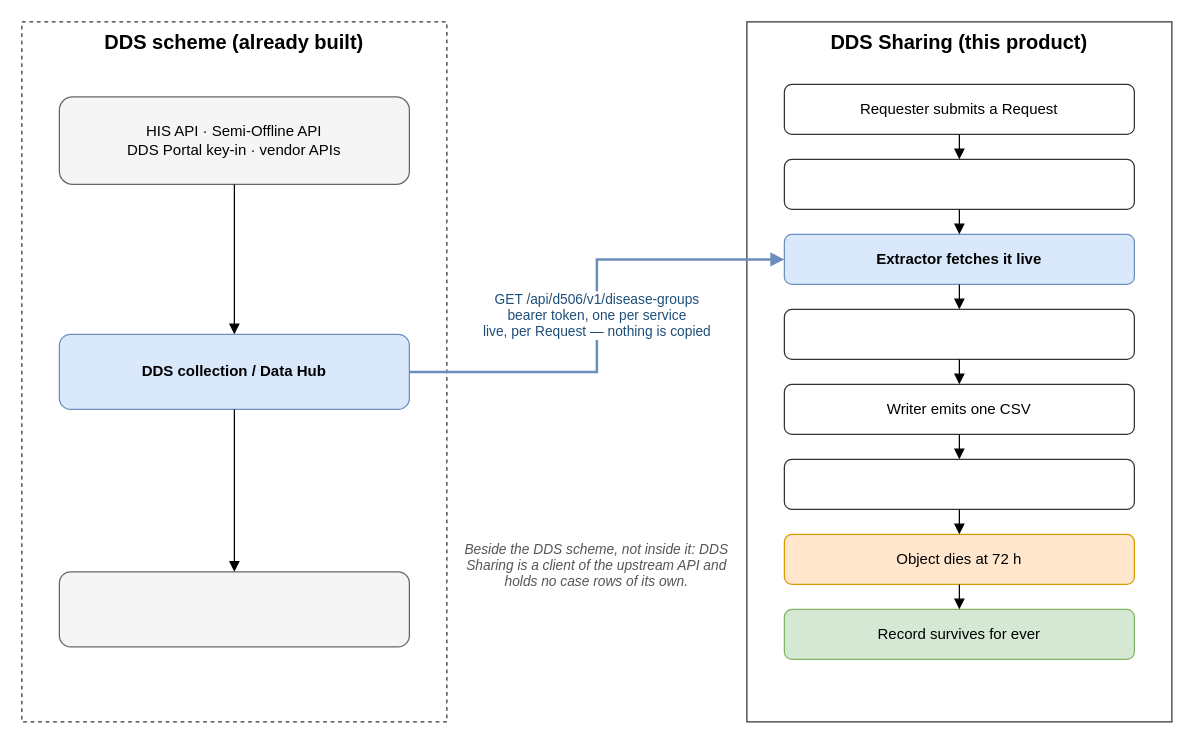
Image size: 1194x744. Some labels were removed from this diagram. Each missing label, with the centre of its shape:
DDS analytics: the point at 233,609
De-identifier projects it: the point at 958,333
Delivery emails a token: the point at 958,483
Reviewer decides it: the point at 958,183
